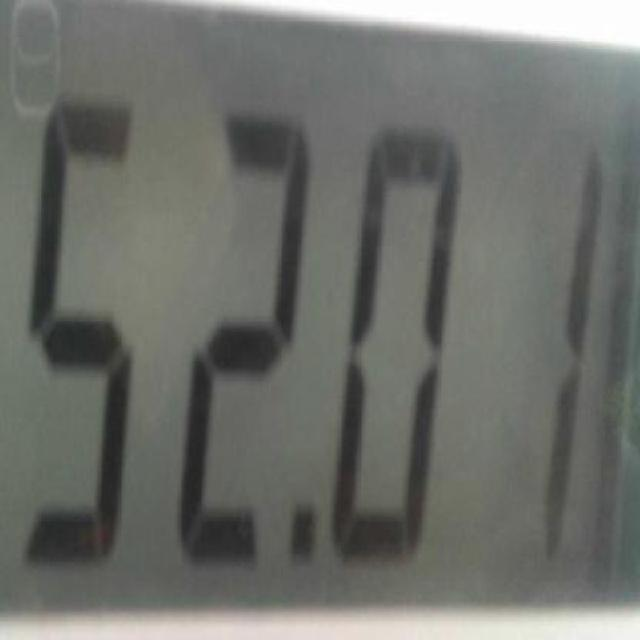.: (286, 511, 321, 563)
0: (328, 130, 458, 559)
1: (542, 152, 604, 558)
2: (176, 115, 311, 558)
5: (28, 97, 145, 561)
